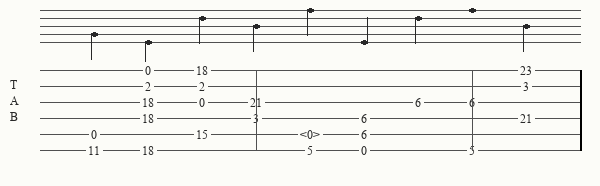0: (91, 128, 101, 141), (145, 64, 155, 77), (199, 96, 209, 109), (361, 144, 371, 157)
11: (88, 144, 104, 157)
15: (196, 128, 212, 141)
18: (142, 112, 158, 125), (142, 96, 158, 109), (142, 144, 158, 157), (196, 64, 212, 77)
2: (145, 80, 155, 93), (199, 80, 209, 93)
21: (250, 96, 266, 109), (520, 112, 536, 125)
23: (520, 64, 536, 77)
3: (253, 112, 263, 125), (523, 80, 533, 93)
5: (307, 144, 317, 157), (469, 144, 479, 157)
6: (361, 112, 371, 125), (361, 128, 371, 141), (415, 96, 425, 109), (469, 96, 479, 109)
harmonic: (300, 128, 324, 141)
